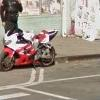Motorcycle: (1, 23, 64, 78)
